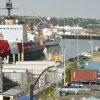Boat: (1, 8, 67, 65)
